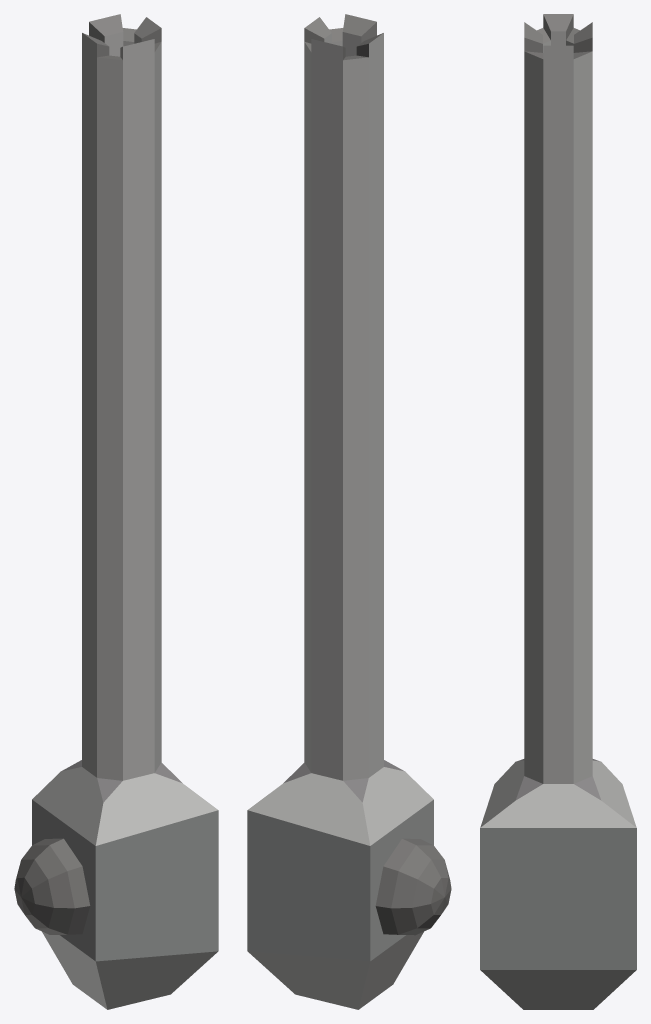
The model's file is TurelGun.fbx.
The picture shows the model from 3 angles, left to right: view 1: azimuth 30°, elevation 25°; view 2: azimuth 150°, elevation 25°; view 3: azimuth 270°, elevation 25°; orthographic projection.
Parts seen in each view (by area): view 1: TureliGun; view 2: TureliGun; view 3: TureliGun.
Part boxes in pixels (x1=…): TureliGun: x1=14, y1=14, x2=218, y2=1009; TureliGun: x1=247, y1=14, x2=451, y2=1009; TureliGun: x1=480, y1=14, x2=636, y2=1009.
Size of the model in its own units: 18.56 by 107 by 15.8.
